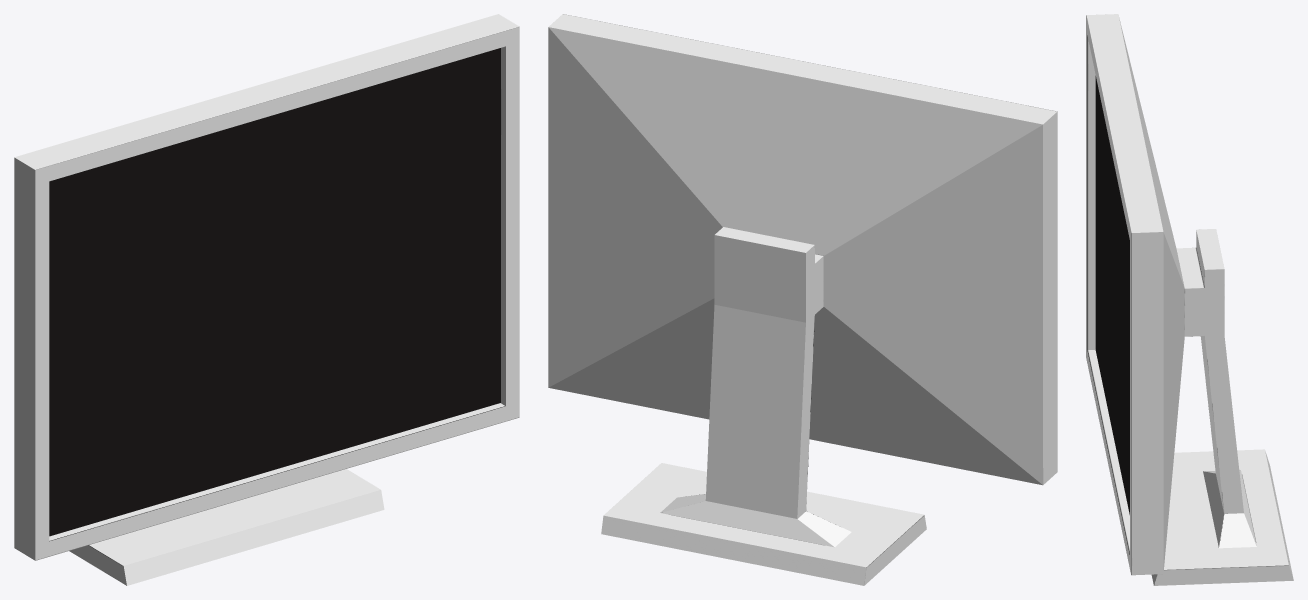
Rendered from monitor.FBX.
3 renders of one model, left to right at view 1: azimuth 30°, elevation 25°; view 2: azimuth 150°, elevation 25°; view 3: azimuth 270°, elevation 25°, orthographic. The views are drawn at different scales.
Visible parts, largest first — view 1: monitor; view 2: monitor; view 3: monitor.
Boxes of the visible parts, box(x1,y1,x2,y2) form: monitor: box(14, 14, 519, 585); monitor: box(548, 14, 1057, 585); monitor: box(1086, 14, 1293, 585).
Size of the model in its own units: 34.79 by 29.98 by 13.94.
